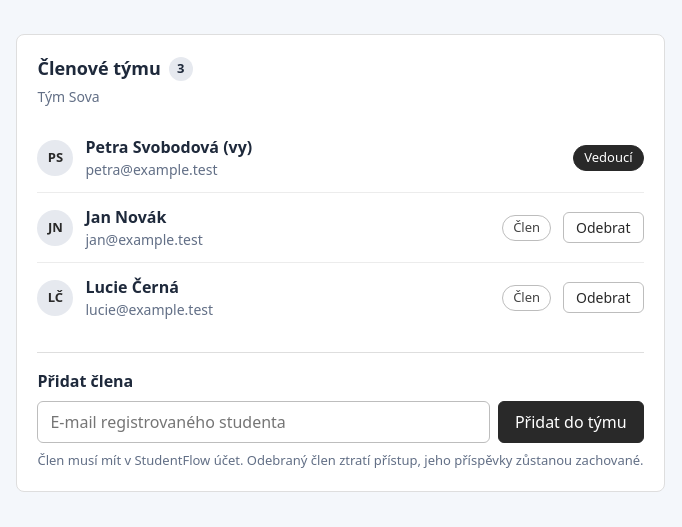
Scenario: ProjectMembers removal › clears the previous message when a new confirmation opens
Click the button "Odebrat" in the row of "JN": click(603, 228) [563,212,644,243]
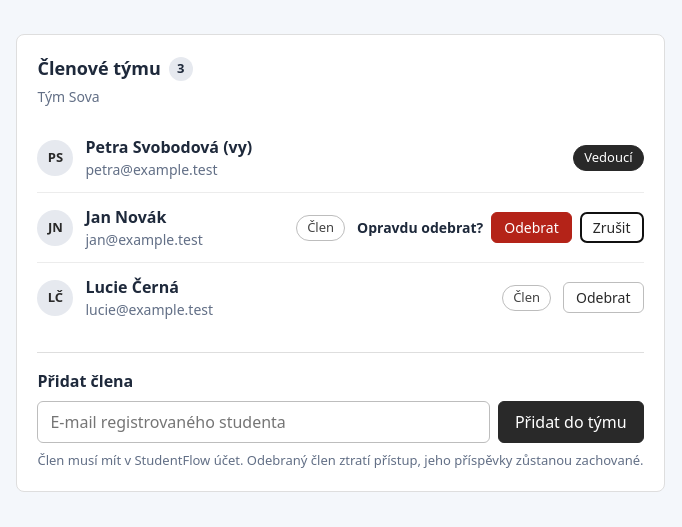
Click the button "Odebrat" next to "Opravdu odebrat?": click(531, 228) [491,212,572,243]
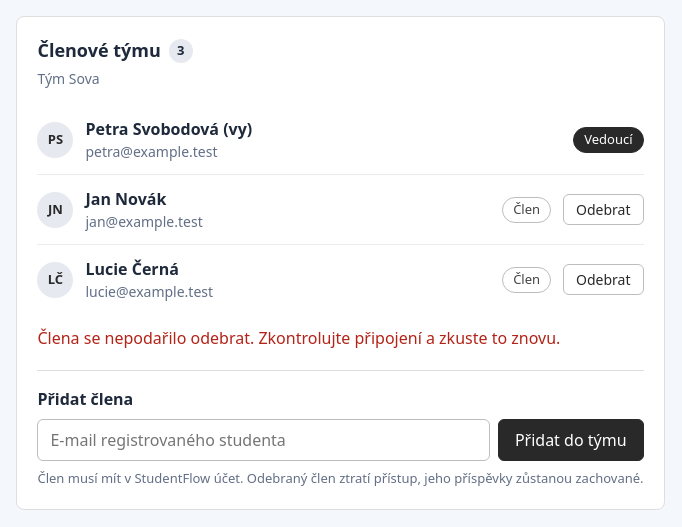
Click the button "Odebrat" in the row of "LČ": click(603, 280) [563,264,644,295]
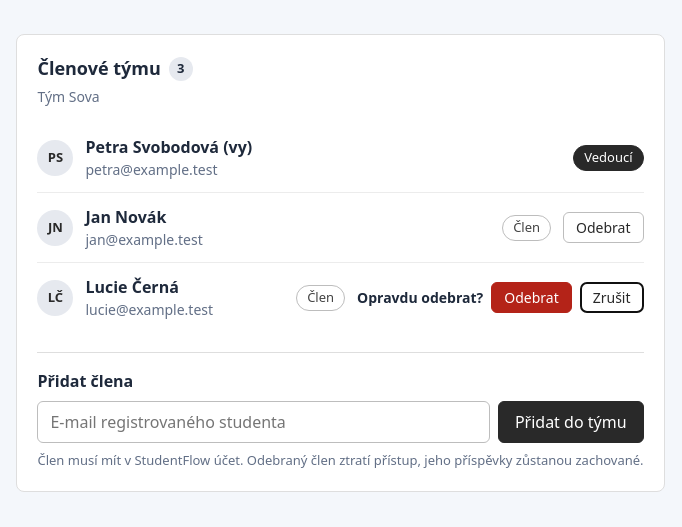
Expected: the message "Člena se nepodařilo odebrat. Zkontrolujte připojení a zkuste to znovu." is gone
